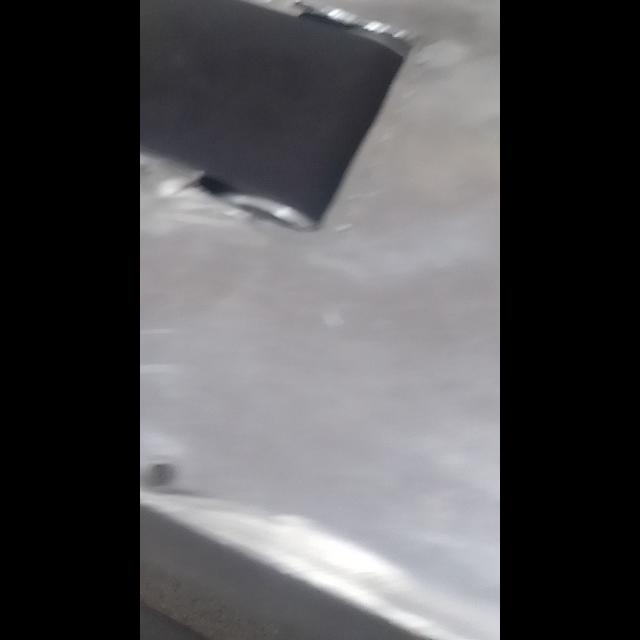yellowBox: (140, 0, 144, 86)
